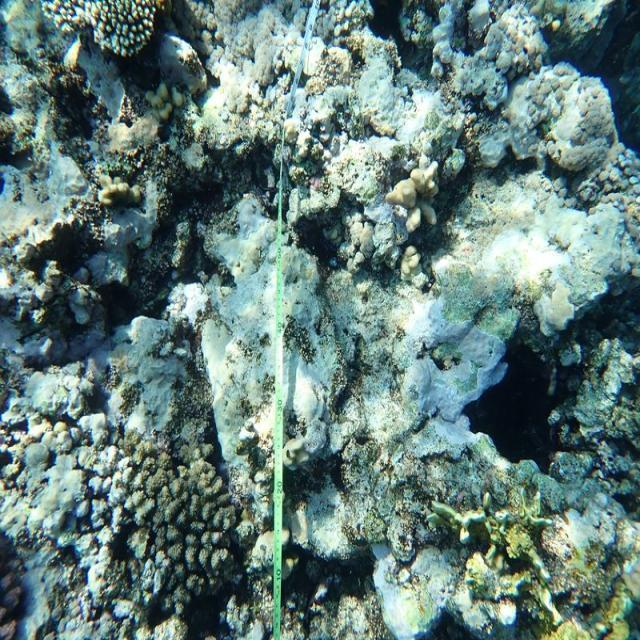Bleached Coral: (224, 0, 411, 244), (0, 355, 149, 640), (185, 207, 344, 470), (414, 0, 617, 189), (407, 276, 508, 454)
Dead Coral: (124, 440, 240, 610)
